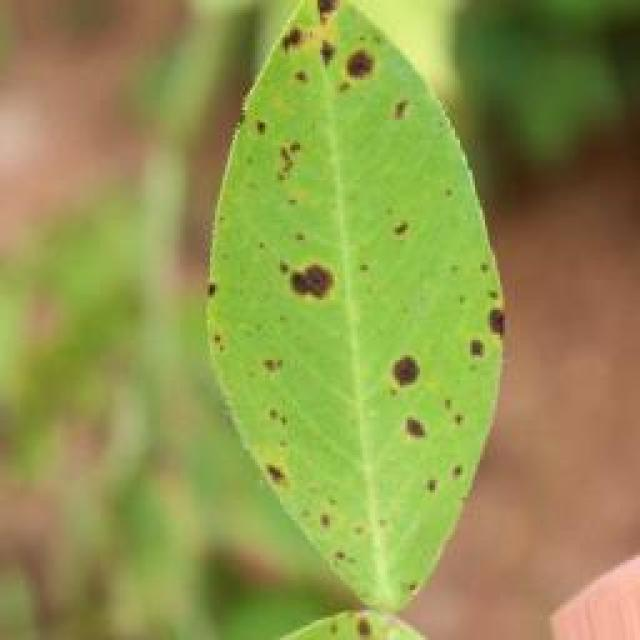Yellowish: (228, 0, 518, 631)
